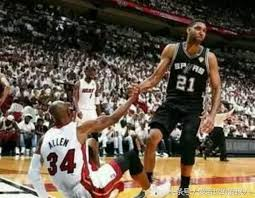10+: (1, 2, 254, 196)
down: (24, 82, 174, 197)
